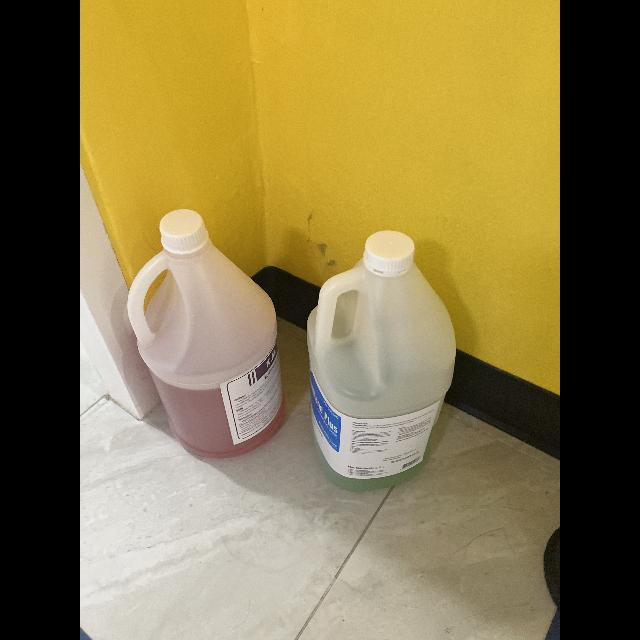chemical_plastic_gallon: (121, 204, 282, 468), (302, 223, 460, 492)
